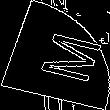M_W: (17, 26, 93, 84)
